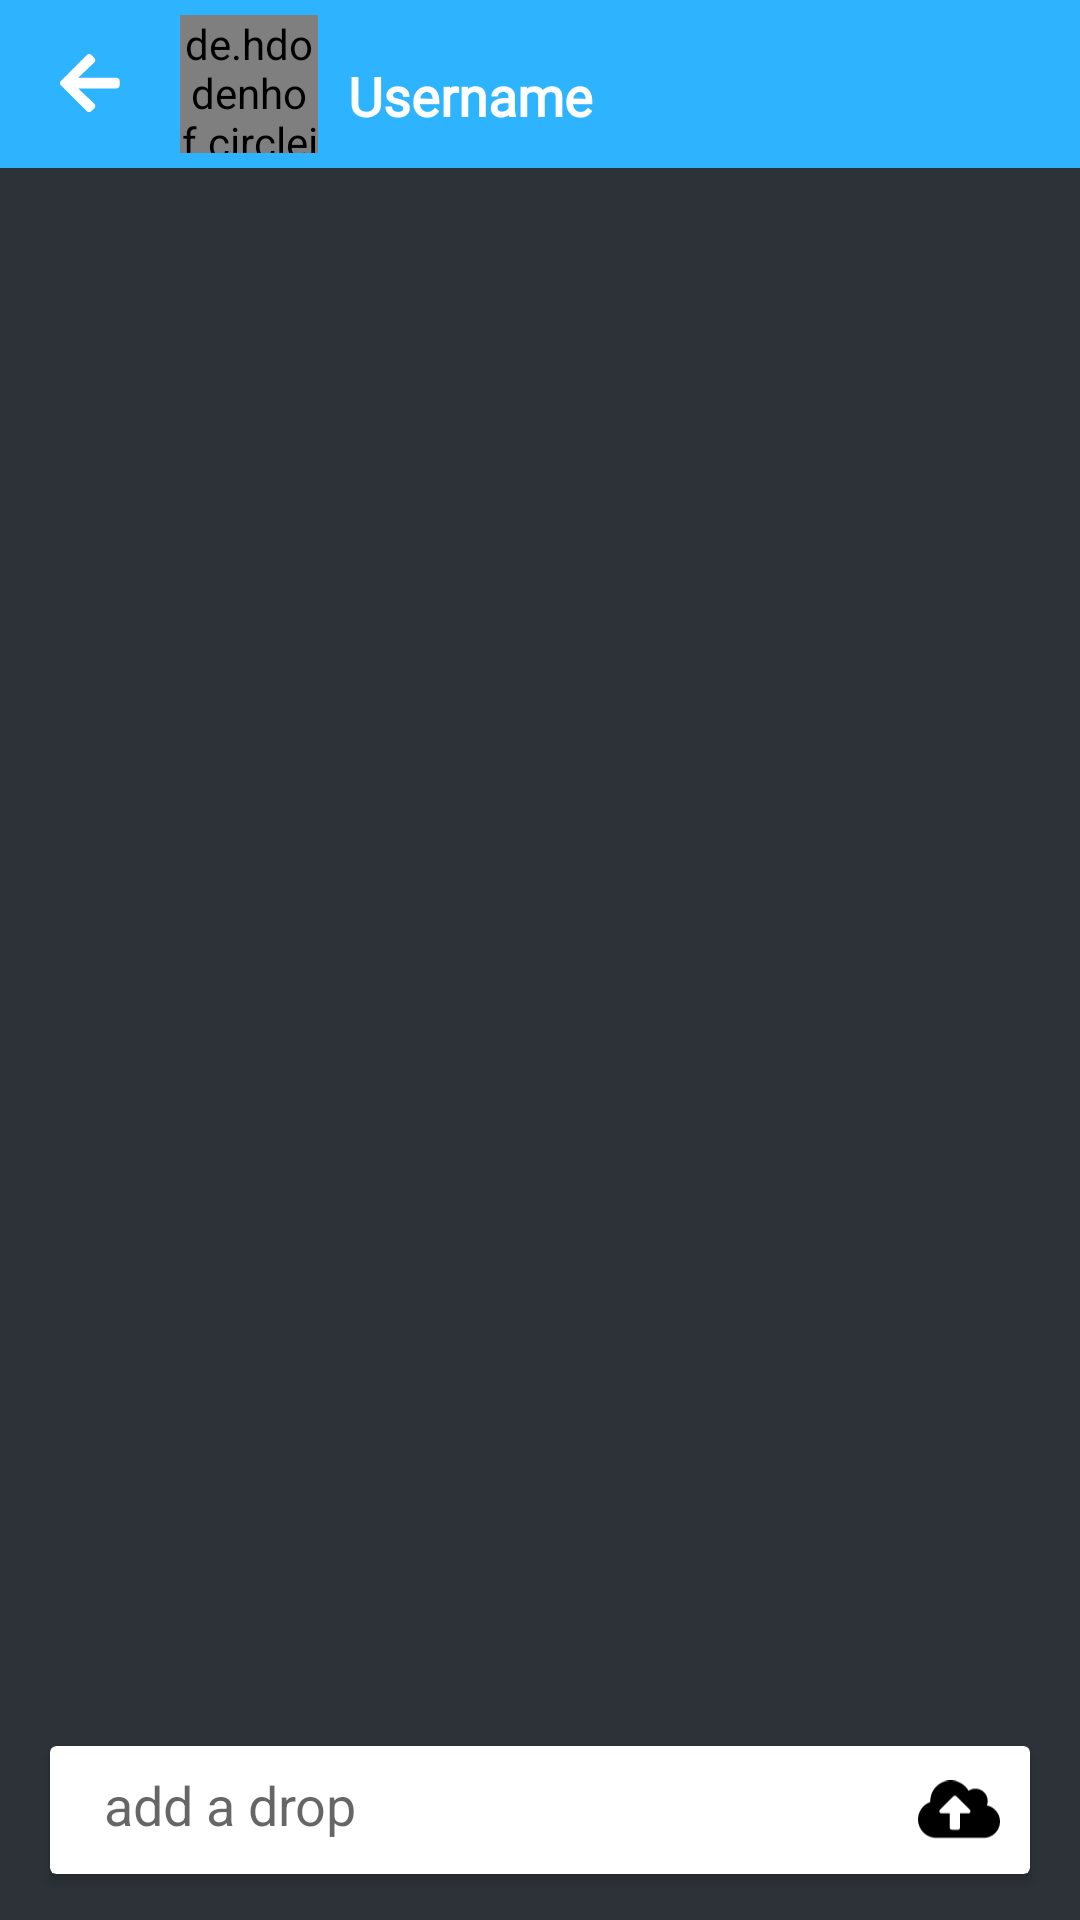

Icons on this 1080w x 1920h Android screen, each with its box as (x1, y1, x2, y2):
back arrow: (60, 54, 120, 112)
